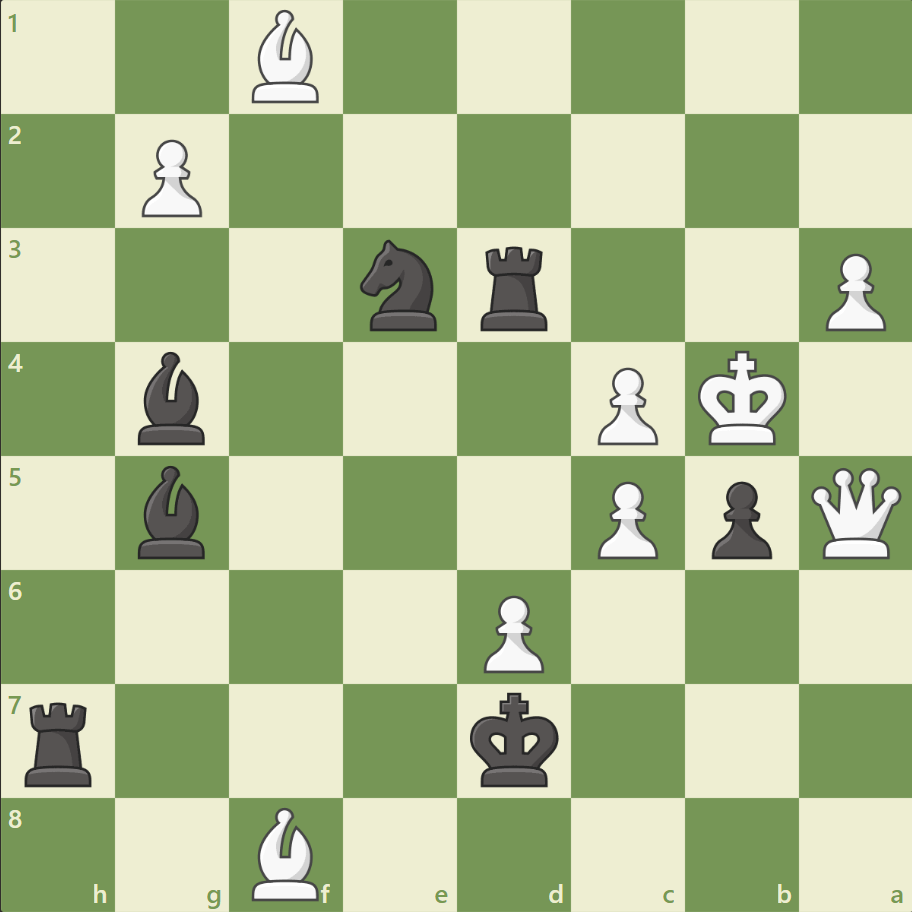B: (244, 801, 328, 904), (244, 6, 328, 109)
K: (692, 344, 792, 452)
P: (474, 586, 549, 677), (133, 132, 208, 223), (588, 473, 662, 564), (588, 359, 662, 450), (815, 246, 889, 337)
Q: (805, 463, 904, 562)
b: (131, 460, 215, 563), (131, 347, 215, 449)
k: (465, 685, 565, 793)
n: (351, 234, 449, 337)
p: (701, 473, 776, 564)
r: (19, 693, 102, 790), (473, 239, 556, 336)
